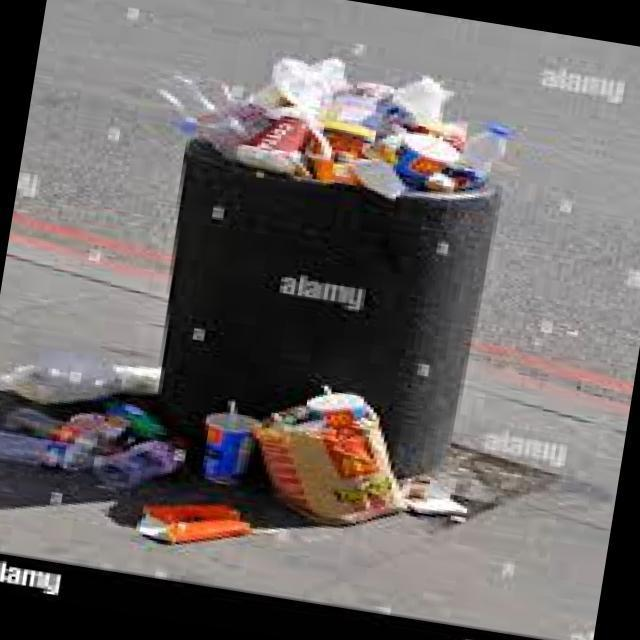garbage: (0, 9, 523, 593)
